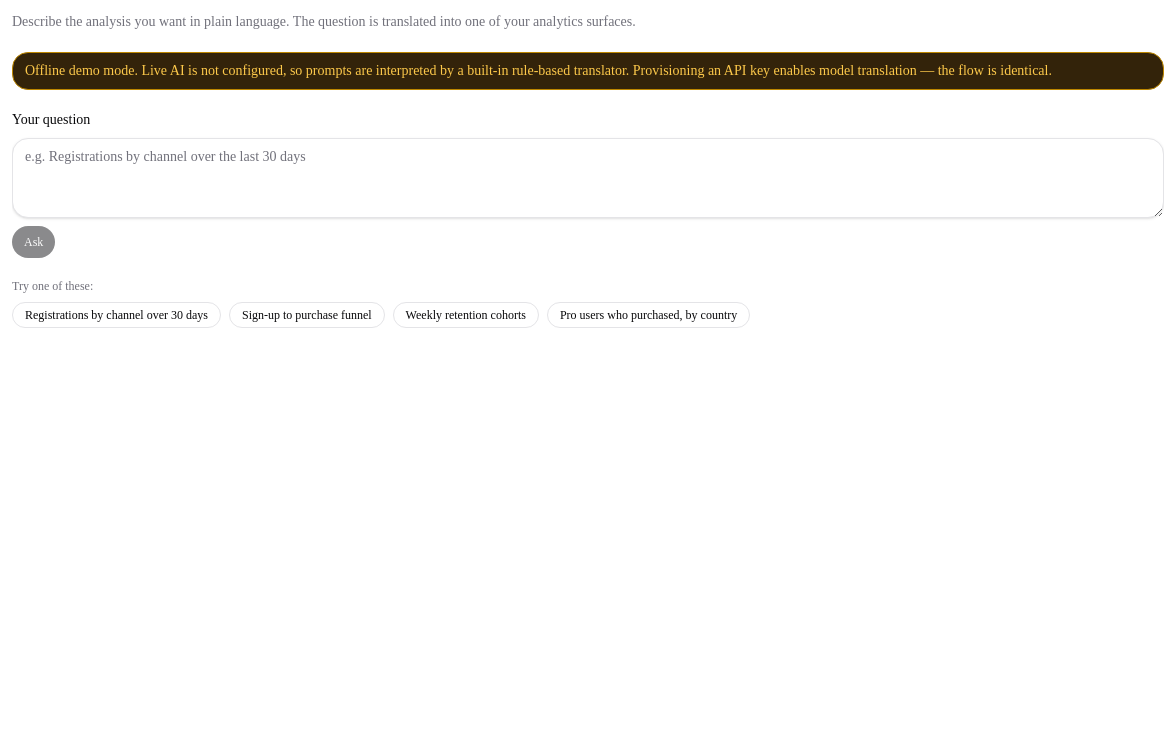
Test case: AiQueryManager › renders a successful translation as a summary + deep-link
Click the button "Registrations by channel over 30 days".
click(116, 315)  # box [12,302,221,328]
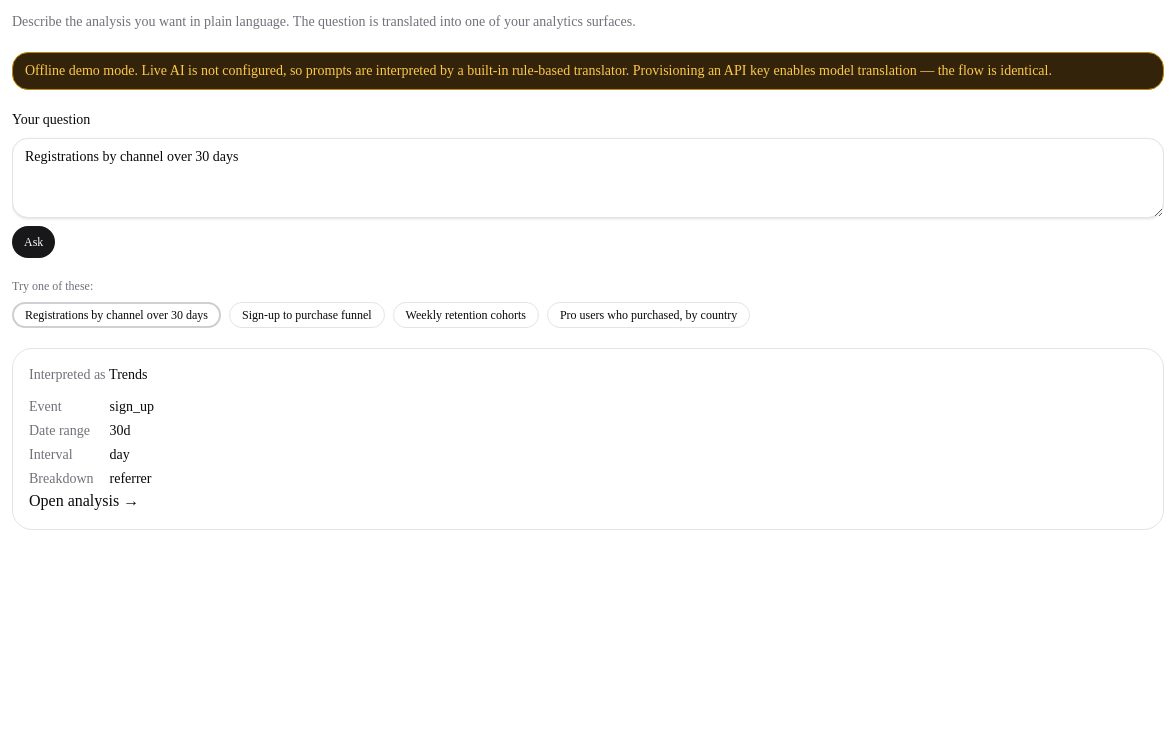
Result: the text "Trends" is shown at [109,367,148,382]
